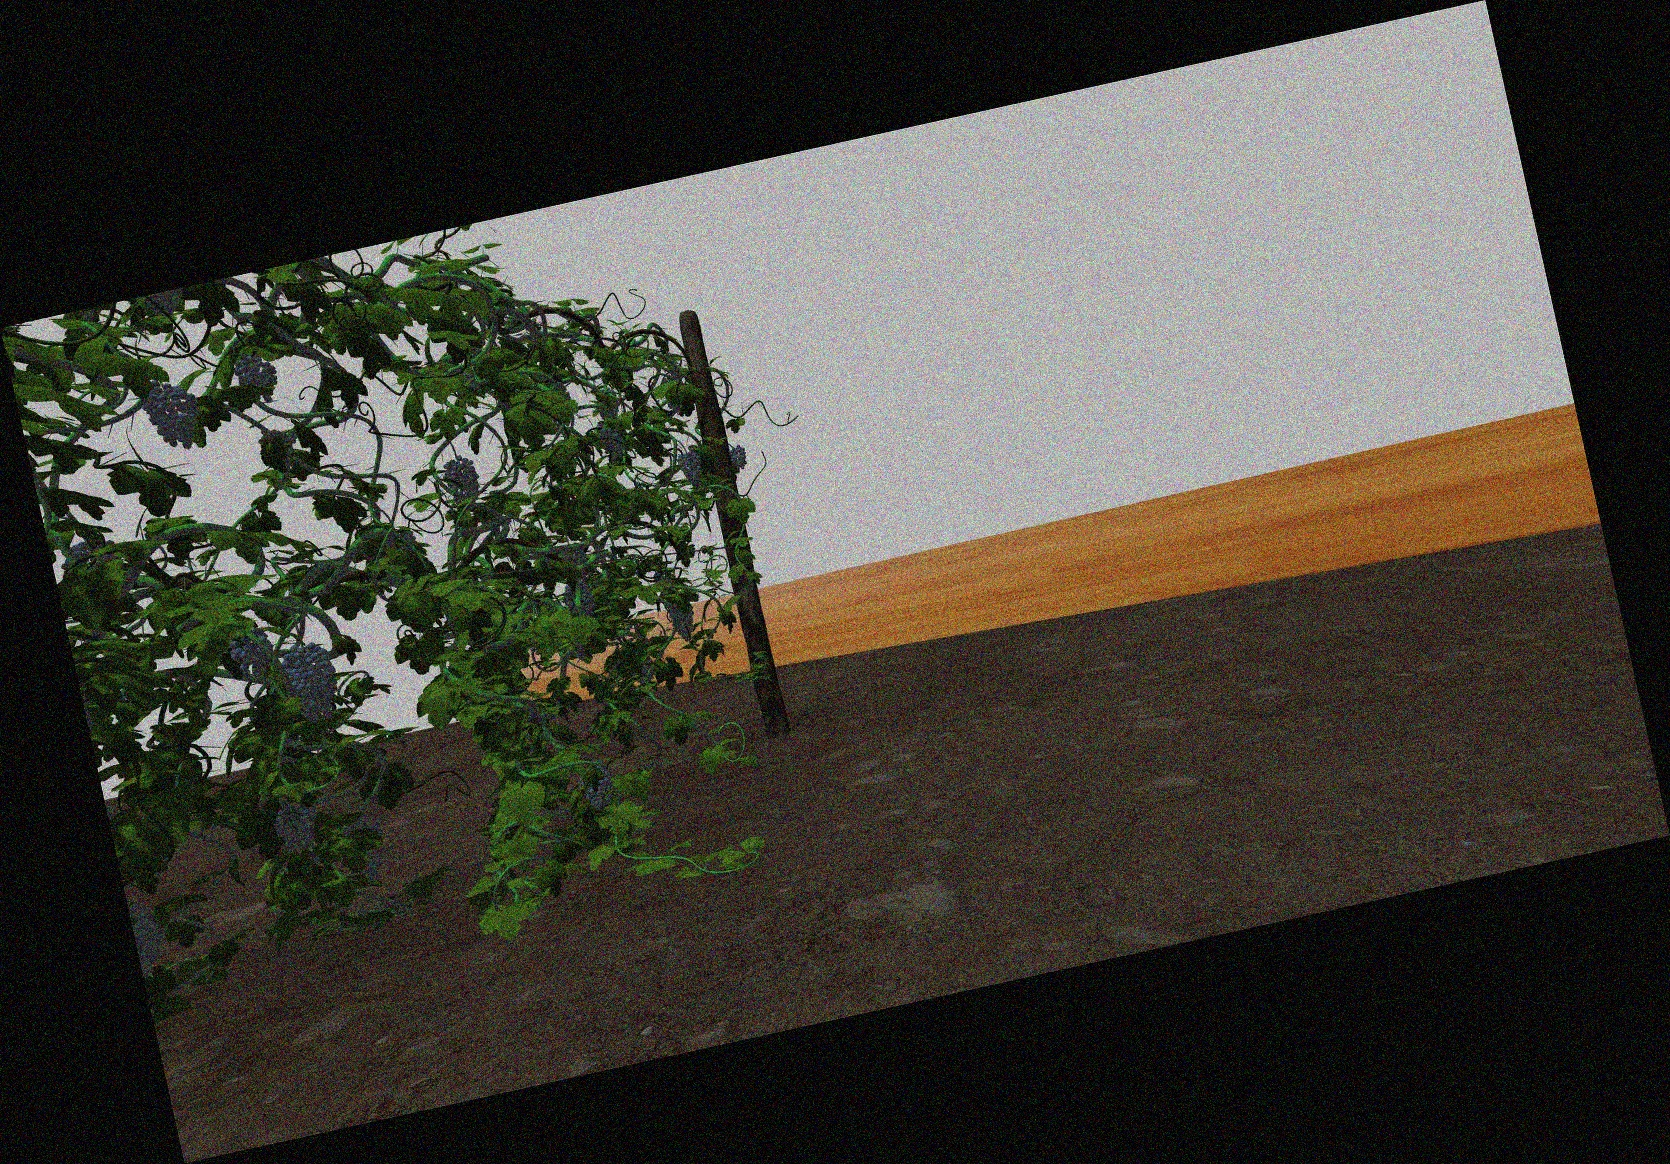grape: (286, 644, 338, 724), (146, 378, 199, 452), (353, 816, 390, 880), (275, 804, 319, 857), (232, 631, 275, 680), (236, 352, 278, 400), (444, 454, 481, 505), (140, 903, 164, 974), (580, 767, 613, 810), (671, 602, 698, 641), (678, 451, 706, 487), (602, 427, 626, 457), (728, 444, 750, 473)
